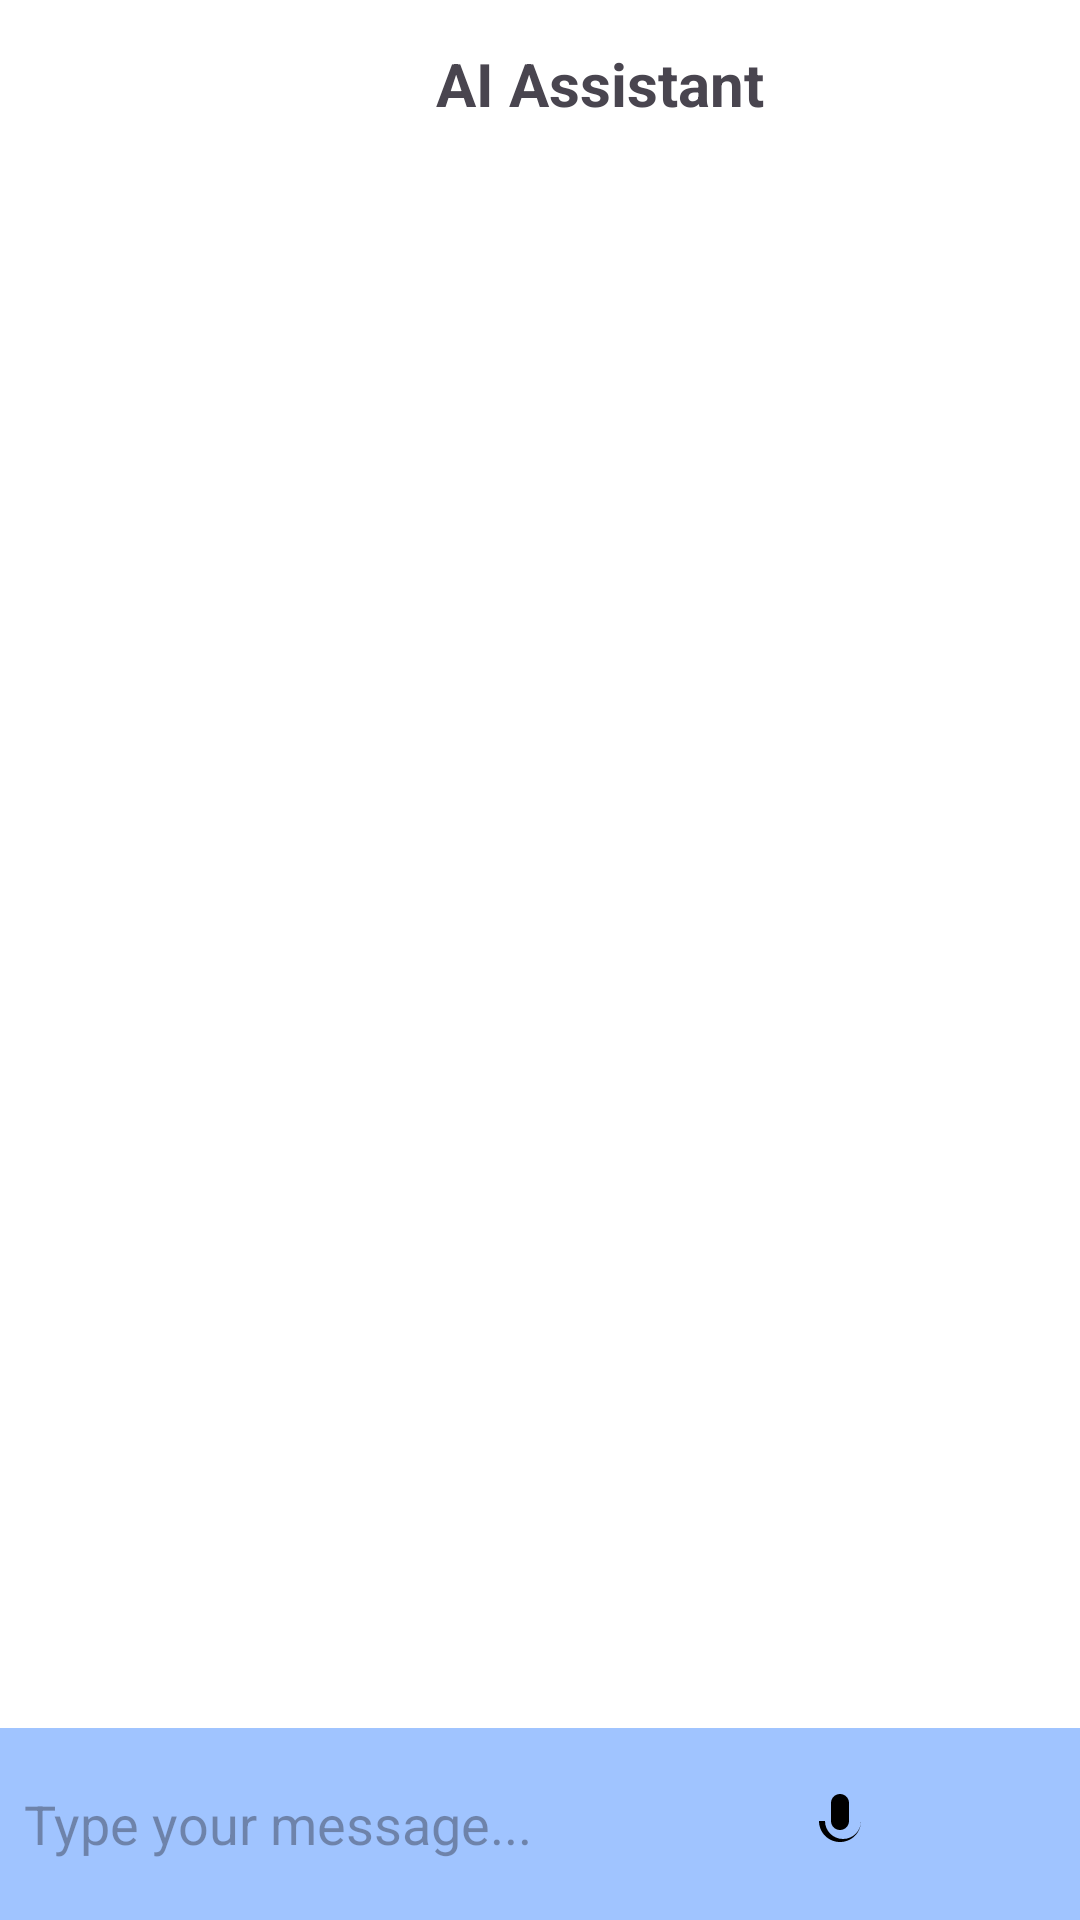

Icon click points for this 1080*1920 phone screenshot, format (x=x, y=y):
mic: (x=840, y=1818)
